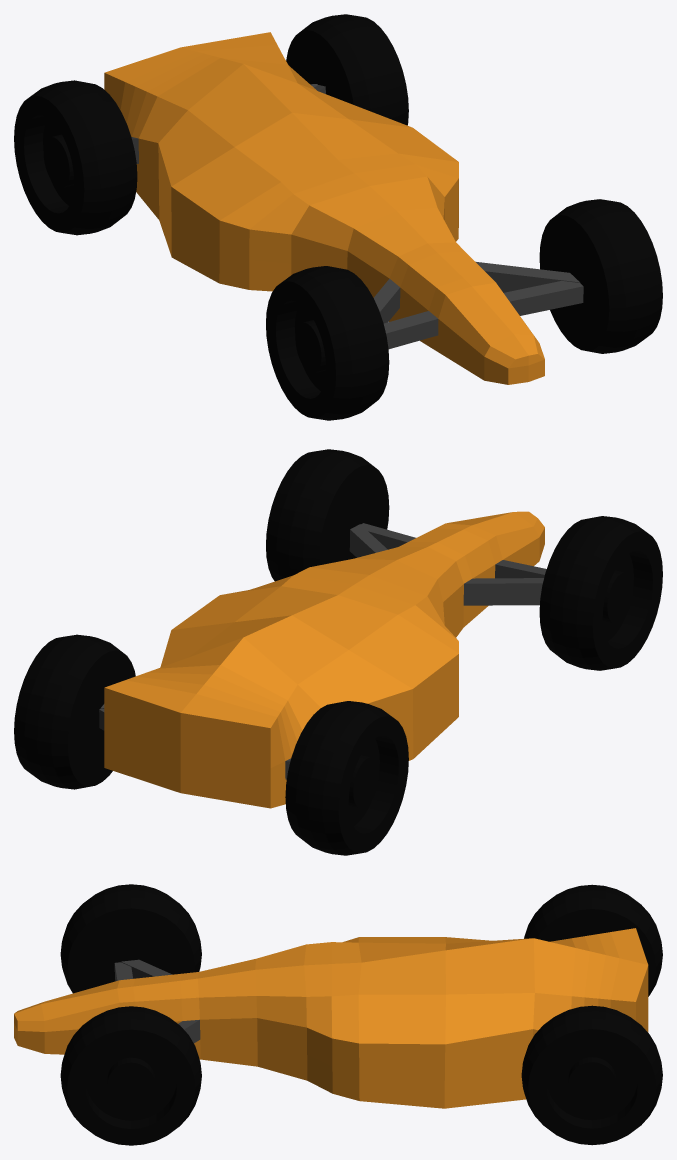
Rendered from car.glb.
3 renders of one model, top to bottom at view 1: azimuth 30°, elevation 25°; view 2: azimuth 150°, elevation 25°; view 3: azimuth 270°, elevation 25°, orthographic. The views are drawn at different scales.
Visible parts, largest first — view 1: Cube; view 2: Cube; view 3: Cube.
Boxes of the visible parts, <box> form: Cube: <box>14,14,662,420</box>; Cube: <box>14,449,662,855</box>; Cube: <box>14,884,662,1145</box>.
Bounding box in the file's own units: 4.04 × 1.83 × 7.63.
